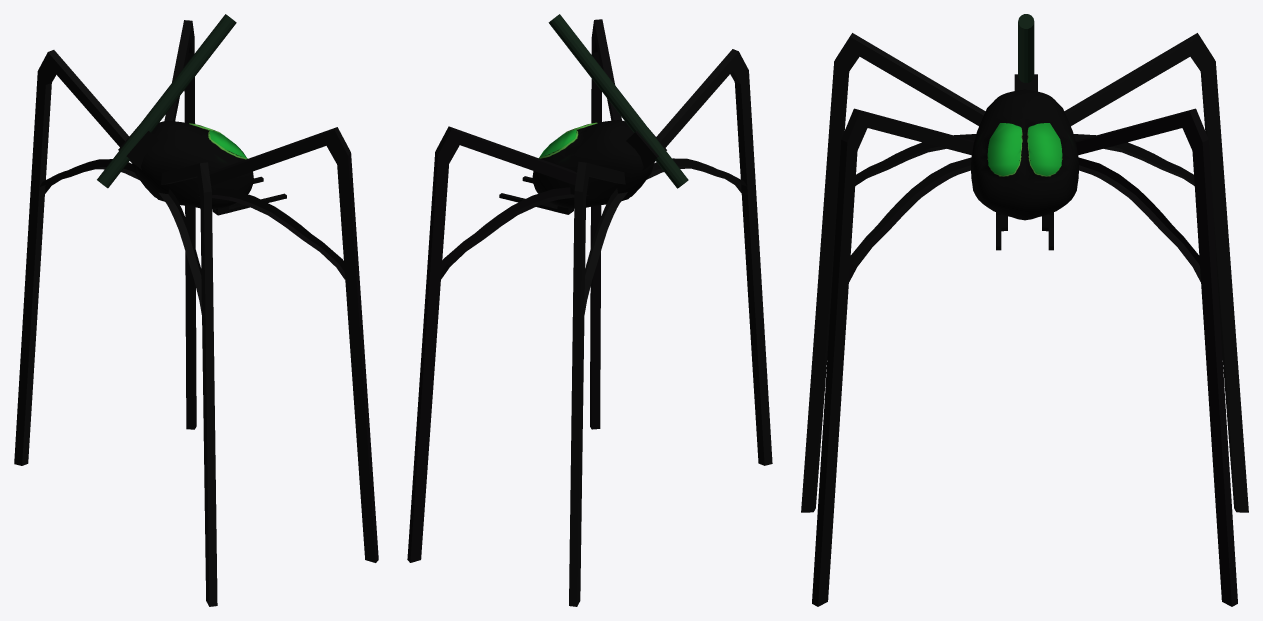
File: tempest_1st_gen.obj
3 views of the same model, side by side, from view 1: azimuth 30°, elevation 25°; view 2: azimuth 150°, elevation 25°; view 3: azimuth 270°, elevation 25° (orthographic). The views are drawn at different scales.
Parts seen in each view (by area): view 1: Cube.004_Cube.008, Cube.005_Cube.007, tempest_Sphere.003, Cylinder.001_Cylinder.002, Cube.001_Cube.004; view 2: Cube.004_Cube.008, Cube.005_Cube.007, tempest_Sphere.003, Cylinder.001_Cylinder.002, Cube.001_Cube.004; view 3: Cube.005_Cube.007, Cube.004_Cube.008, tempest_Sphere.003, Cylinder.001_Cylinder.002, Cube.002_Cube.
Boxes of the visible parts, x1,y1,x2,y2 form: Cube.004_Cube.008: (14, 50, 217, 606); Cube.005_Cube.007: (164, 20, 378, 562); tempest_Sphere.003: (132, 120, 254, 209); Cylinder.001_Cylinder.002: (97, 14, 236, 188); Cube.001_Cube.004: (118, 127, 158, 169); Cube.004_Cube.008: (569, 49, 772, 606); Cube.005_Cube.007: (407, 19, 621, 562); tempest_Sphere.003: (532, 120, 654, 208); Cylinder.001_Cylinder.002: (548, 14, 688, 188); Cube.001_Cube.004: (626, 128, 666, 170); Cube.005_Cube.007: (812, 108, 1237, 606); Cube.004_Cube.008: (801, 33, 1248, 512); tempest_Sphere.003: (971, 89, 1078, 220); Cylinder.001_Cylinder.002: (1018, 14, 1034, 82); Cube.002_Cube: (996, 212, 1053, 250).
Bounding box in the file's own units: 2.11 × 5.26 × 3.82.
6 materials, 2 textured.
